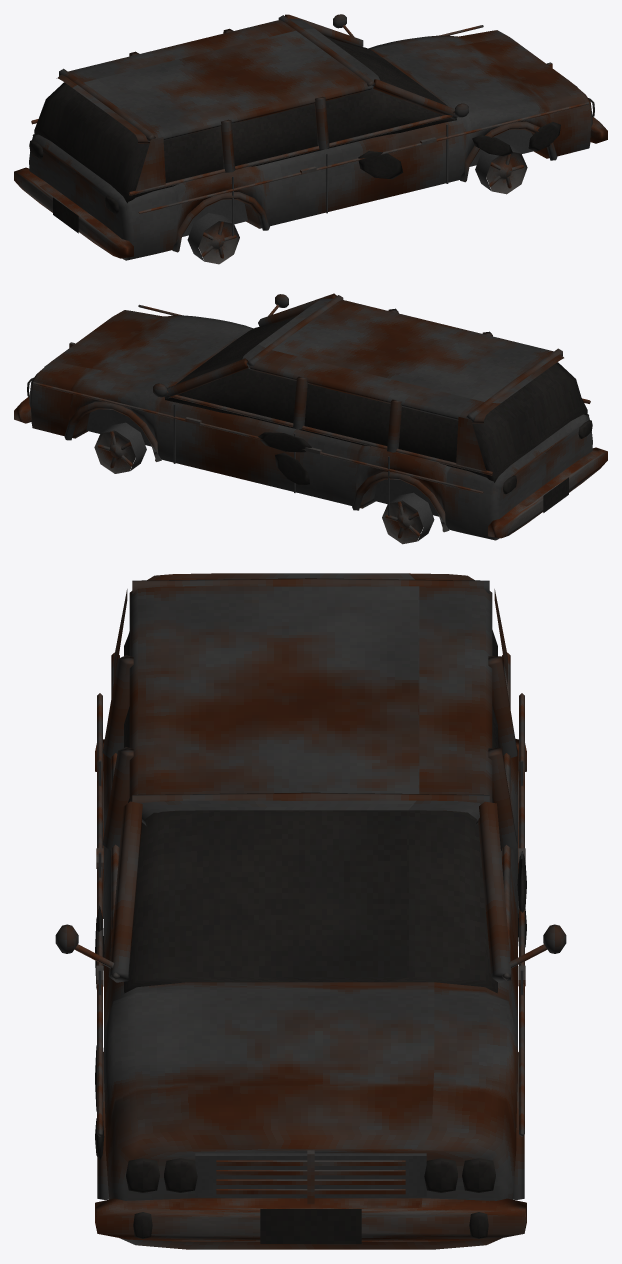
Rendered from ext_burnt_car.glb.
The picture shows the model from 3 angles, top to bottom: view 1: azimuth 30°, elevation 25°; view 2: azimuth 150°, elevation 25°; view 3: azimuth 270°, elevation 25°; orthographic projection. The views are drawn at different scales.
Parts seen in each view (by area): view 1: detail; view 2: detail; view 3: detail.
Boxes of the visible parts, x1=… form: detail: x1=14, y1=14, x2=607, y2=264; detail: x1=14, y1=293, x2=607, y2=544; detail: x1=55, y1=573, x2=566, y2=1249.
Size of what is drawn, in the model's own units: 4.7 by 1.31 by 2.12.
4 materials, 4 textured.
